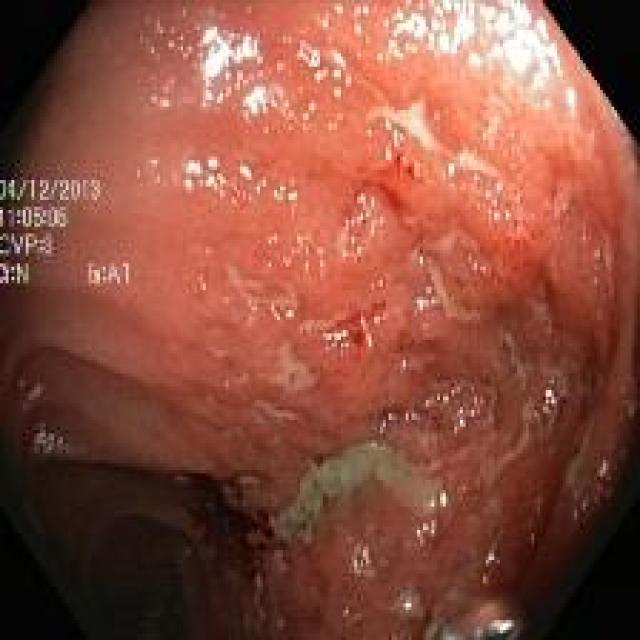ulcerative-colitis-grade-3: (0, 1, 640, 640)
